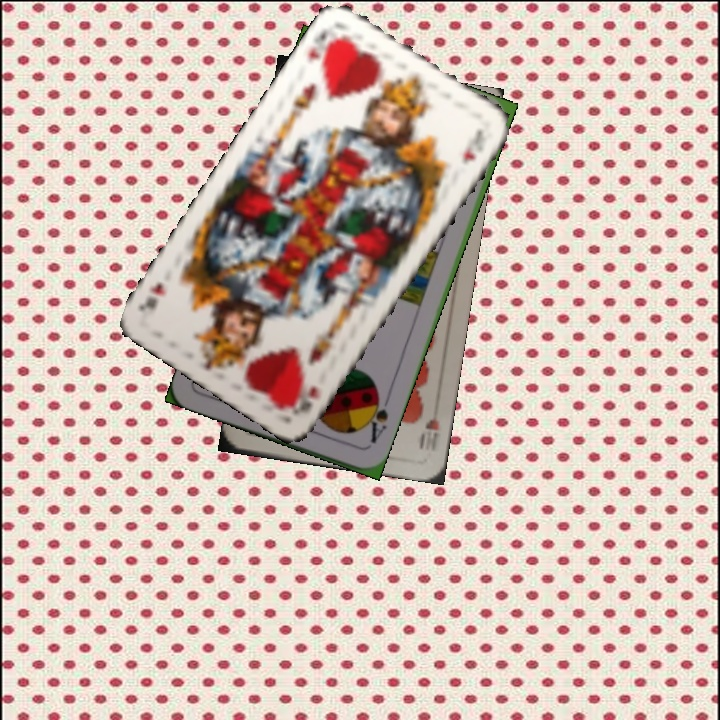H10: (415, 397, 443, 454)
HK: (303, 22, 345, 73), (289, 382, 322, 415)
SA: (360, 388, 393, 446)
